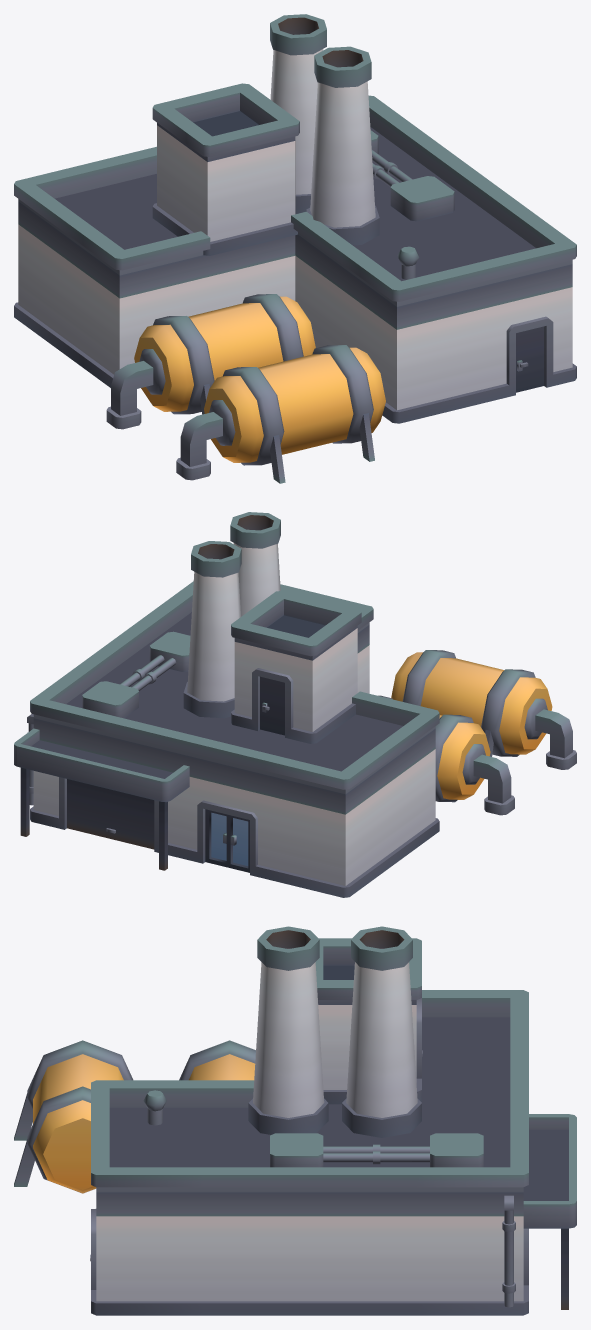
File: ind_building_c.glb
3 views of the same model, one above another, from view 1: azimuth 30°, elevation 25°; view 2: azimuth 150°, elevation 25°; view 3: azimuth 270°, elevation 25° (orthographic). The views are drawn at different scales.
Visible parts, largest first — view 1: building-c; view 2: building-c; view 3: building-c.
Boxes of the visible parts, bbox=[...] form: building-c: bbox=[14, 14, 576, 483]; building-c: bbox=[14, 512, 576, 897]; building-c: bbox=[14, 926, 576, 1315].
Size of the model in its own units: 1.88 by 1.25 by 2.11.
Materials: 1 (1 with a texture image).
